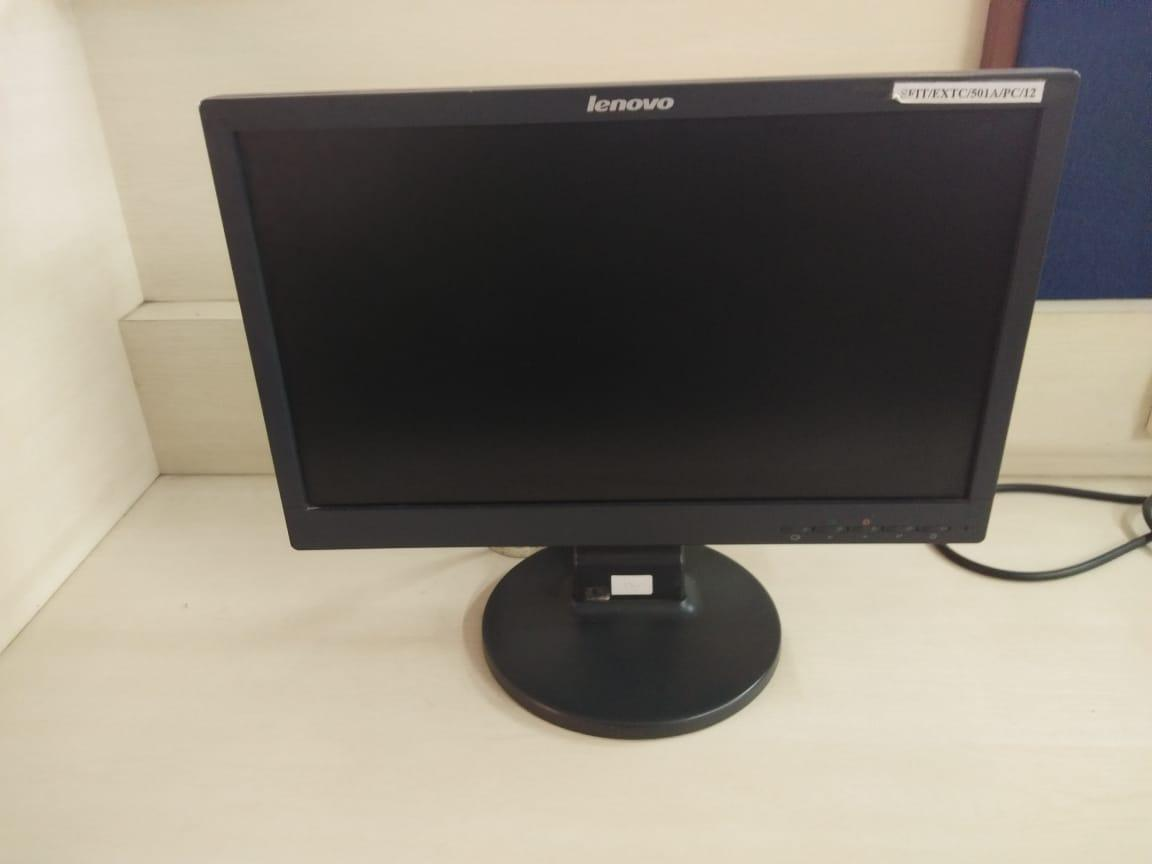monitor: (192, 62, 1085, 749)
